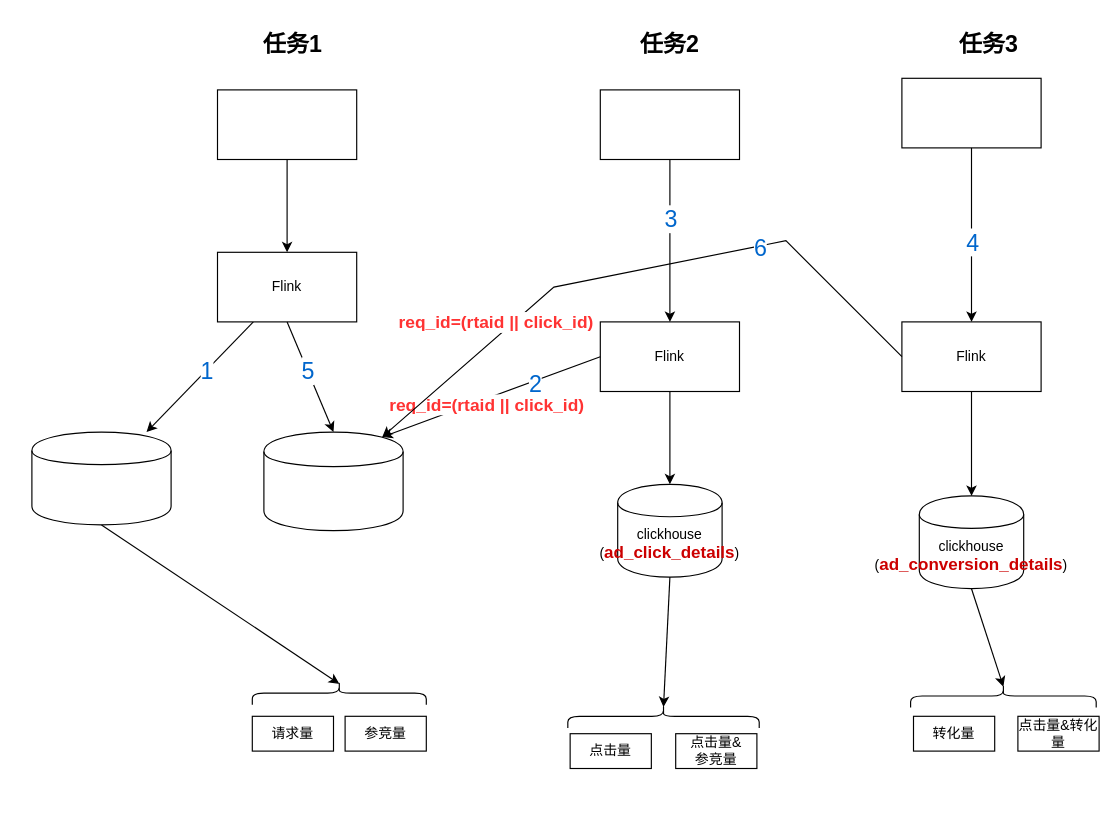
The diagram is 1119 pixels wide and 832 high, and some of its shapes have lost their labels. Here are the shapes that lost their labels. From the top down, the centre of each, then its label:
At (x=286, y=124): "请求流水 ( 06000054565 )".
At (x=669, y=124): "点击流水 ( 07b00040057 )".
At (x=971, y=112): "归因流水 ( 05f00032602 )".
At (x=101, y=478): "clickhouse ( ad_request_details )".
At (x=333, y=481): "Hbase ( ad_request_kv_details )".
